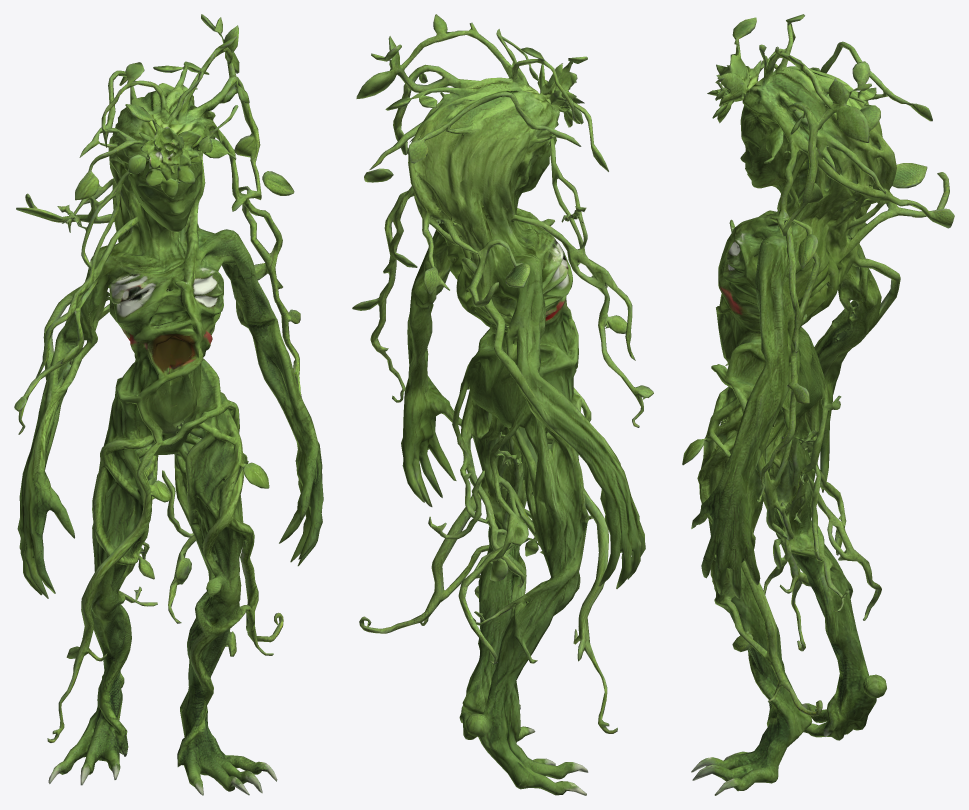
The model's file is Meshy_AI_vine_creature_0504063157_texture.fbx.
3 renders of one model, left to right at view 1: azimuth 30°, elevation 25°; view 2: azimuth 150°, elevation 25°; view 3: azimuth 270°, elevation 25°, orthographic. The views are drawn at different scales.
Visible parts, largest first — view 1: Mesh_0; view 2: Mesh_0; view 3: Mesh_0.
Part boxes in pixels (left/top/right/bottom): Mesh_0: left=14, top=14, right=323, bottom=795; Mesh_0: left=352, top=14, right=653, bottom=795; Mesh_0: left=682, top=14, right=954, bottom=795.
Bounding box in the file's own units: 80.7 × 191 × 63.76.
1 material, 1 textured.
